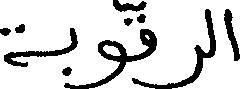X: (98, 0, 125, 88), (0, 19, 30, 71), (174, 40, 202, 88), (140, 0, 155, 88), (224, 4, 239, 65), (205, 4, 214, 62), (68, 23, 76, 88)
